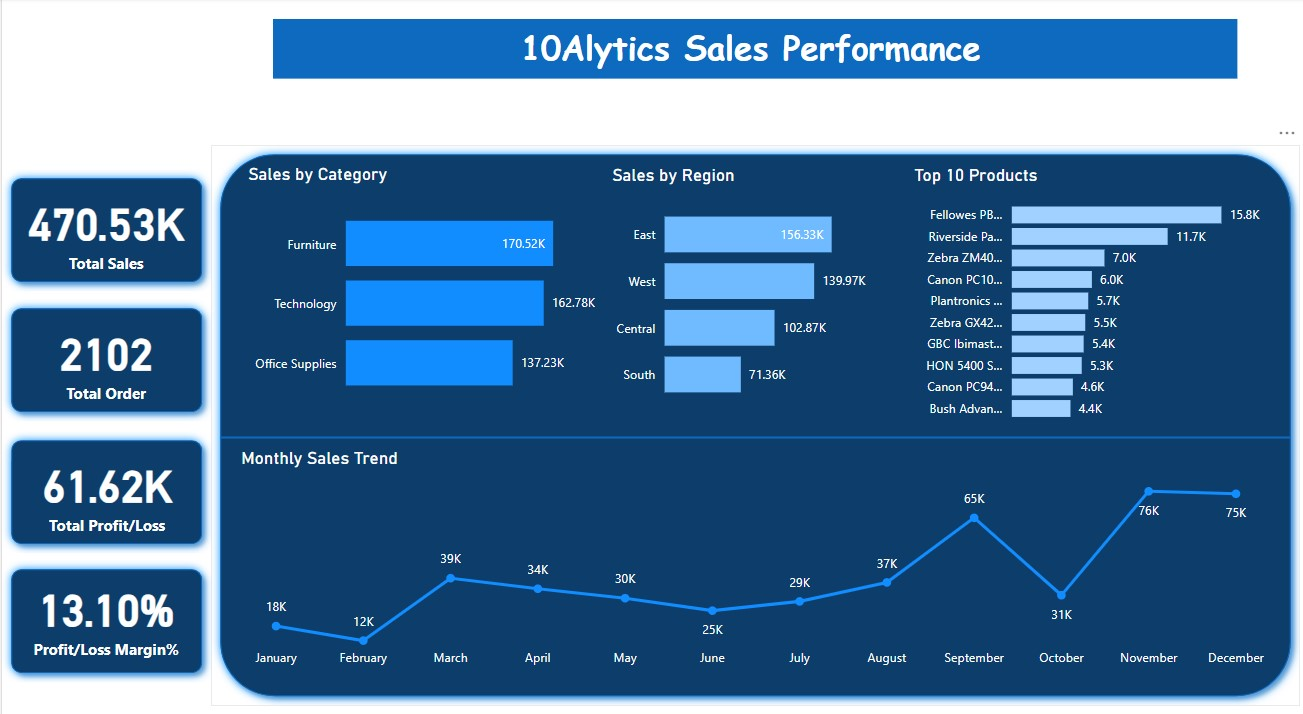

This screenshot's page, from the dashboard's own definition file:
{"tool":"powerbi","page":{"name":"Sales","canvas":[1280,720],"ordinal":0},"visuals":[{"type":"shape","box":[203.6,143.2,1059.2,545.1],"z":0},{"type":"shape","box":[212,352.1,1041.7,150.8],"z":1000},{"type":"lineChart","title":"Monthly Sales Trend","fields":{"Y":["Calculations.Total Sales"],"Category":["Calendar2_DIM.Date.Variation.Date Hierarchy.Month"]},"box":[227.6,437.7,1011.6,221.8],"z":2000},{"type":"shape","box":[0,166.1,203.6,119],"z":3000},{"type":"shape","box":[0,292.9,203.6,119],"z":4000},{"type":"shape","box":[0,421.4,203.6,119],"z":5000},{"type":"shape","box":[0,546.5,203.6,119],"z":6000},{"type":"card","fields":{"Values":["Calculations.Total Sales"]},"box":[10.4,182,181.1,88.8],"z":7000},{"type":"card","fields":{"Values":["Calculations.Total Order"]},"box":[10.4,309.6,181.1,87.1],"z":8000},{"type":"card","fields":{"Values":["Calculations.Profit Margin%"]},"box":[10.4,553.7,181.1,95.7],"z":9000},{"type":"card","fields":{"Values":["Calculations.Total Profit"]},"box":[11.2,437.3,181.1,87.1],"z":10000},{"type":"clusteredBarChart","title":"Sales by Category","fields":{"Y":["Calculations.Total Sales"],"Category":["Products_DIM.Category"]},"box":[234.4,161.5,354,246.1],"z":11000},{"type":"clusteredBarChart","title":"Sales by Region","fields":{"Y":["Calculations.Total Sales"],"Category":["Location_DIM.Region"]},"box":[588.2,162.2,272.6,245.8],"z":12000},{"type":"clusteredBarChart","title":"Top 10 Products","fields":{"Y":["Calculations.Total Sales"],"Category":["Products_DIM.Product Name"]},"box":[882.2,162.4,348.2,258.7],"z":13000},{"type":"textbox","box":[263.6,20.4,937.6,58.4],"z":14000},{"type":"bookmarkNavigator","box":[411.1,85.5,600.3,50.1],"z":15000}]}

Visuals, with their boxes in screenshot pixels (x1, y1, x2, y2), scaled from the page's 1280x720 canvas onto the 1303x714 screenshot:
shape: [207,142,1285,683]
shape: [216,349,1276,499]
"Monthly Sales Trend" lineChart: [232,434,1261,654]
shape: [0,165,207,283]
shape: [0,290,207,408]
shape: [0,418,207,536]
shape: [0,542,207,660]
card - Calculations.Total Sales: [11,180,195,269]
card - Calculations.Total Order: [11,307,195,393]
card - Calculations.Profit Margin%: [11,549,195,644]
card - Calculations.Total Profit: [11,434,196,520]
"Sales by Category" clusteredBarChart: [239,160,599,404]
"Sales by Region" clusteredBarChart: [599,161,876,405]
"Top 10 Products" clusteredBarChart: [898,161,1253,418]
textbox: [268,20,1223,78]
bookmarkNavigator: [418,85,1030,134]
